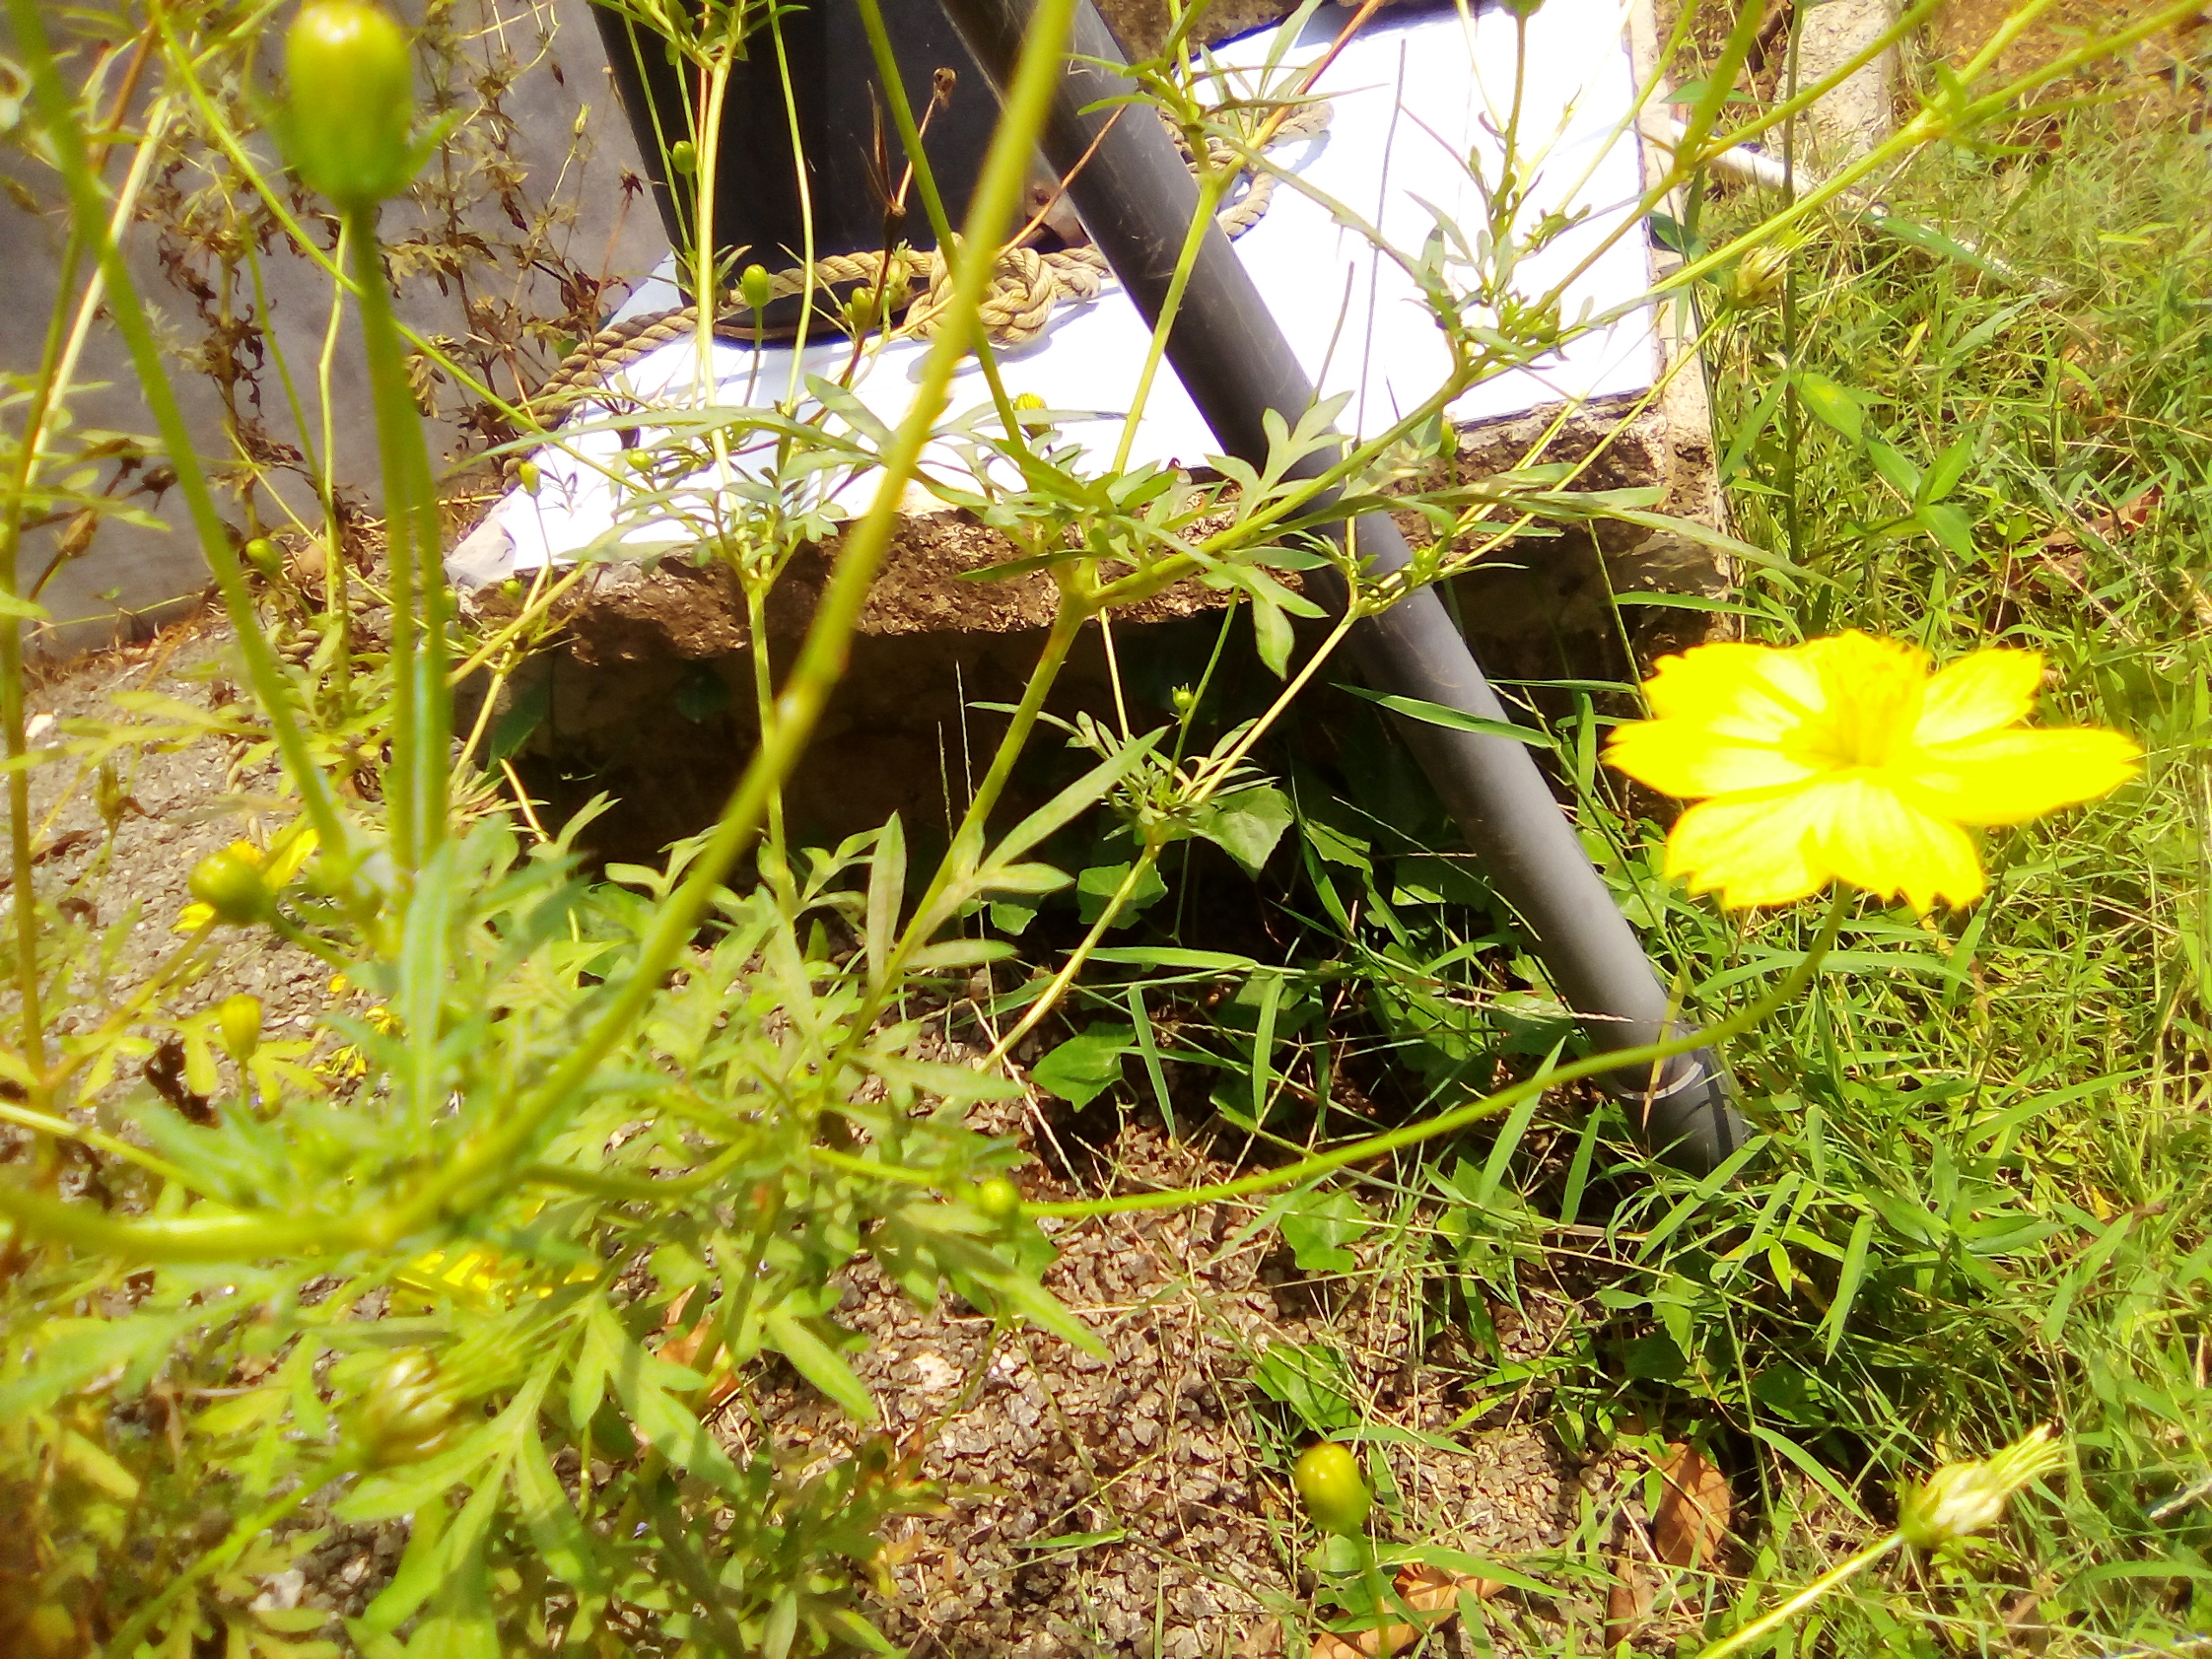kahamala: (1608, 603, 2151, 934)
